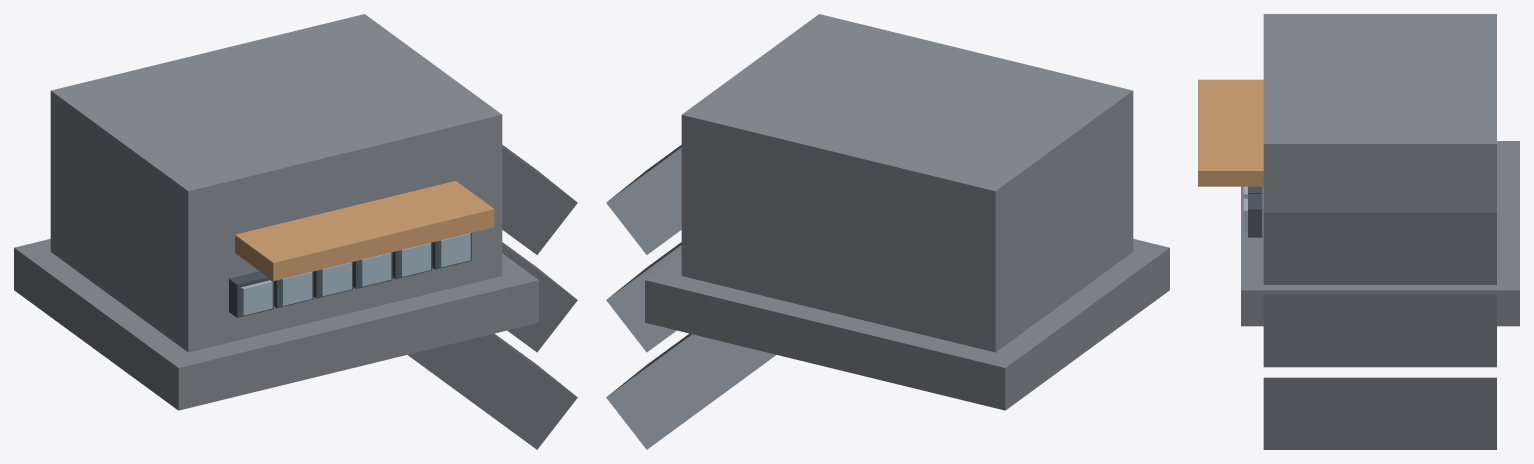
Rendered from gym.glb.
3 views of the same model, side by side, from view 1: azimuth 30°, elevation 25°; view 2: azimuth 150°, elevation 25°; view 3: azimuth 270°, elevation 25° (orthographic). The views are drawn at different scales.
Parts seen in each view (by area): view 1: world; view 2: world; view 3: world.
Boxes of the visible parts, x1,y1,x2,y2 form: world: [14, 14, 577, 449]; world: [606, 14, 1169, 449]; world: [1198, 14, 1519, 449].
Bounding box in the file's own units: 1.42 × 1.13 × 1.13.
